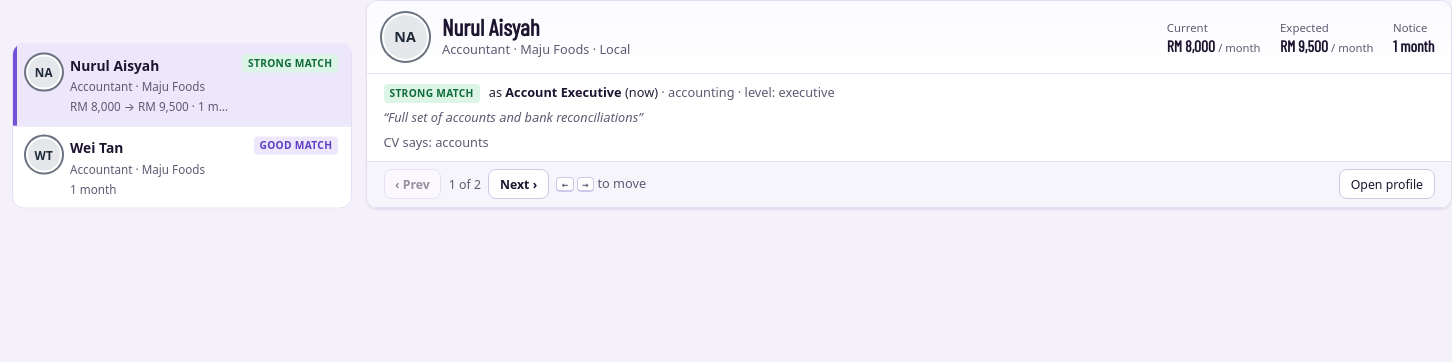
Test: reading search results as resumes › says why each was found by meaning: how strong in the results, and why over the resume
Expected: the button "Nurul Aisyah" shows "Strong match", [13,44,351,125]
Expected: the button "WT Wei Tan Accountant · Maju Foods 1 month Good match" is shown, [13,126,351,208]
Click the button "Next ›" at (519, 184), box [488,169,549,199]
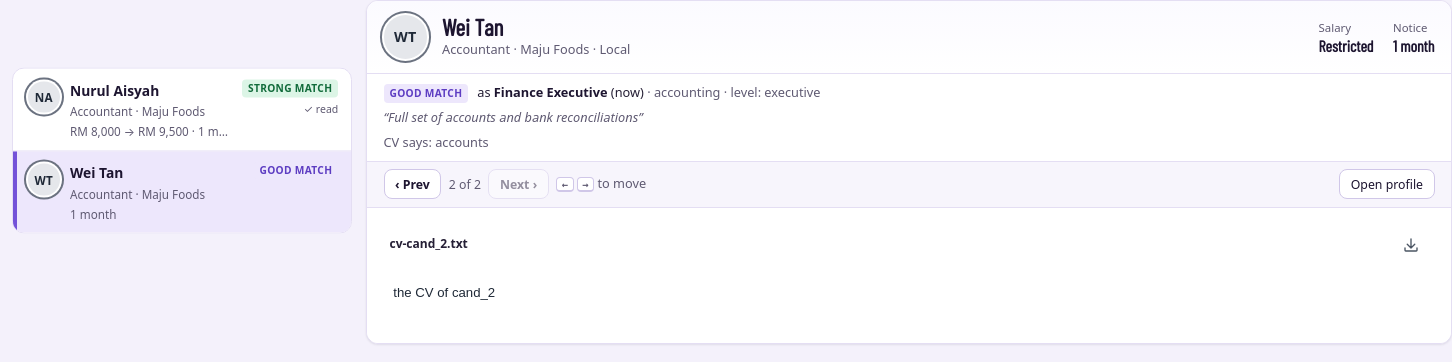
Now the text "the CV of cand_2" is shown, box [390,276,1428,311]
